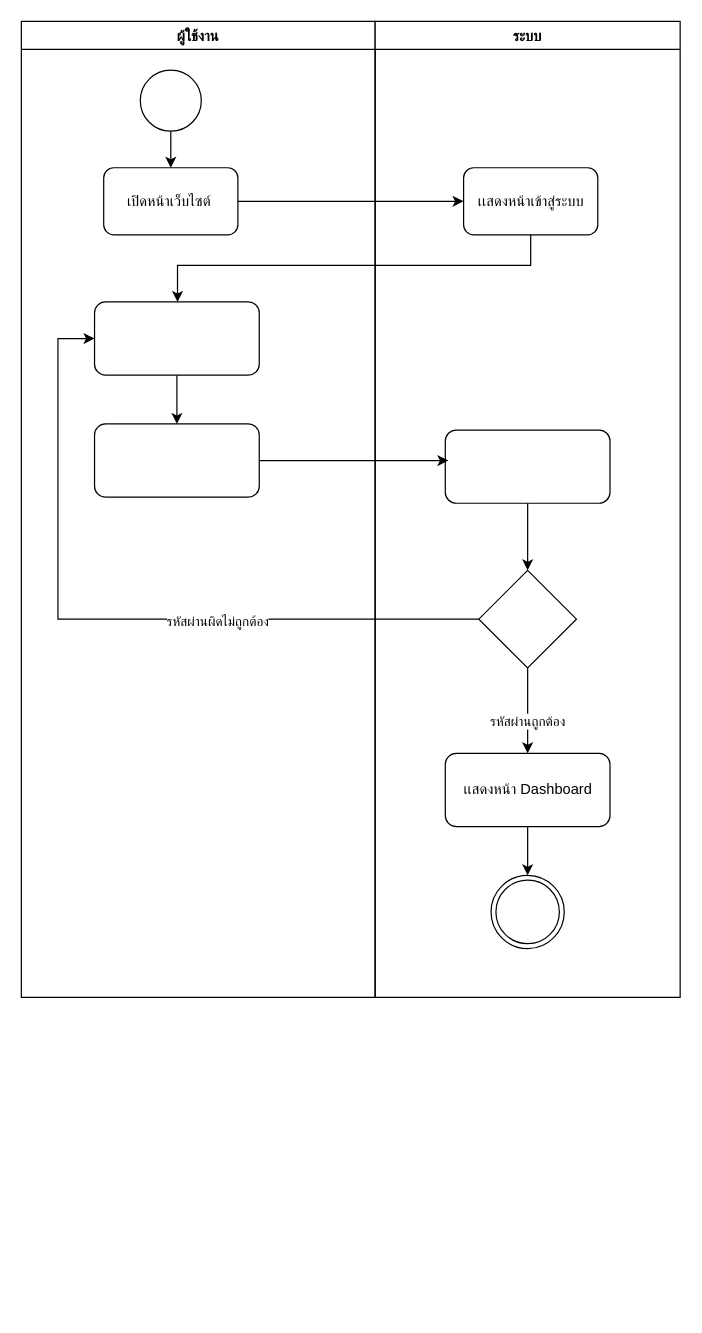
Some shapes in this 702 by 1333 pixel diagram are drawn without their labels. The shapes that lost their labels are listed below. From the top down, each one's centre as x and y in pixels, then its label:
[176,338]: กรอกรหัสนิสิต เพื่อทำการเข้าสู่ระบบ
[176,460]: กดปุ่ม "เข้าสู่ระบบ"
[527,466]: ระบบตรวจสอบข้อมูล
